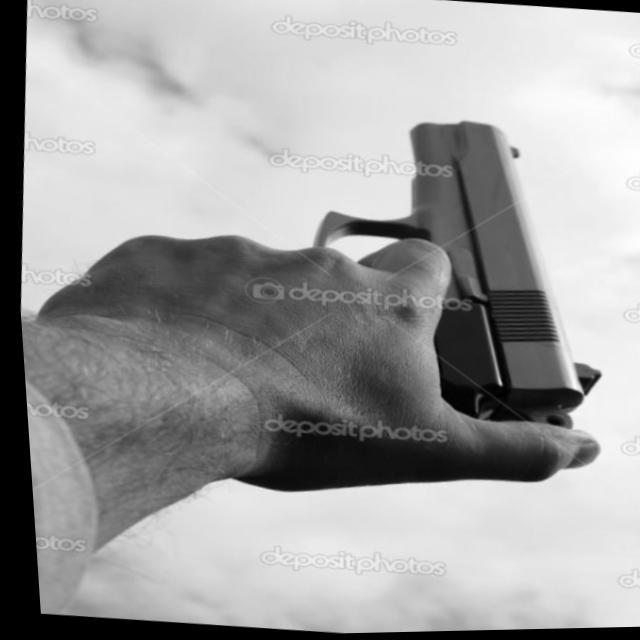weapon: (284, 106, 619, 440)
